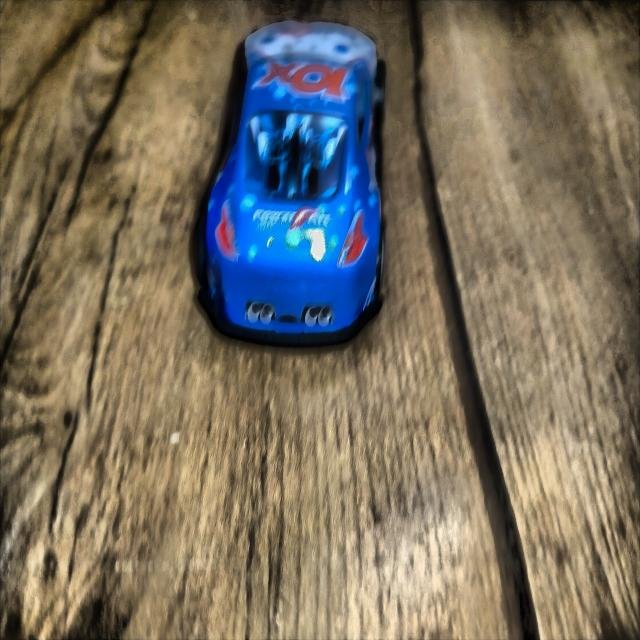Car: (202, 22, 382, 346)
